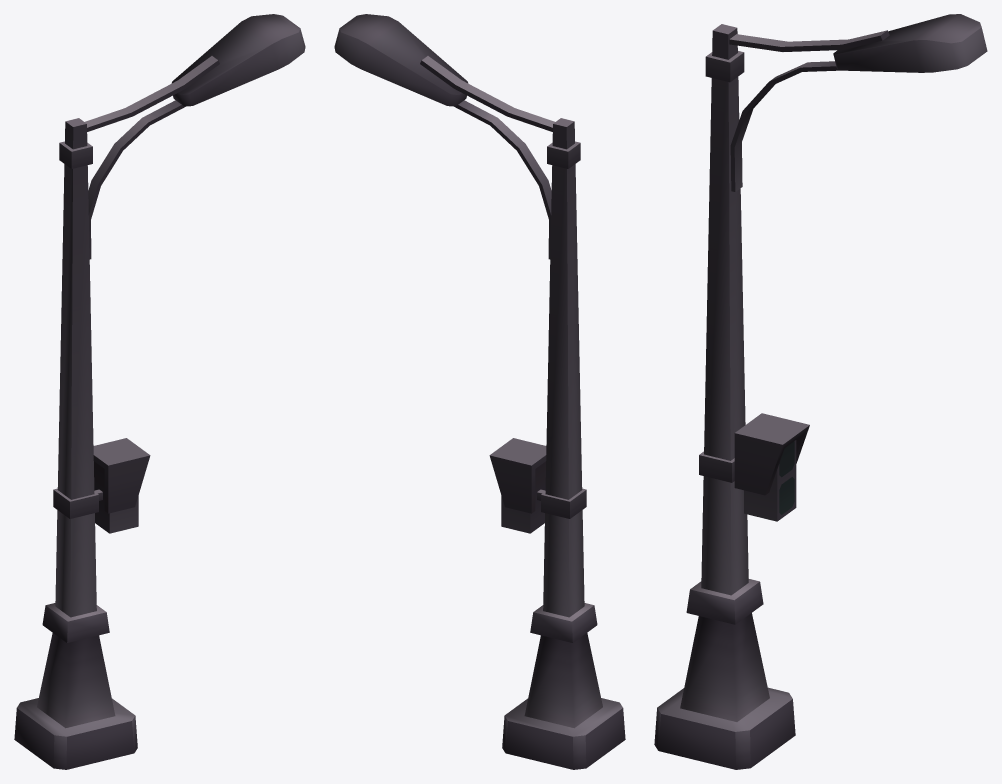
Rendered from Streetlight_3A.fbx.
3 views of the same model, side by side, from view 1: azimuth 30°, elevation 25°; view 2: azimuth 150°, elevation 25°; view 3: azimuth 330°, elevation 25° (orthographic). The views are drawn at different scales.
Parts seen in each view (by area): view 1: Streetlight_3A; view 2: Streetlight_3A; view 3: Streetlight_3A.
Part boxes in pixels (x1=…): Streetlight_3A: x1=14, y1=14, x2=305, y2=769; Streetlight_3A: x1=334, y1=14, x2=625, y2=769; Streetlight_3A: x1=654, y1=14, x2=987, y2=769.
Size of the model in its own units: 340 by 829 by 109.
